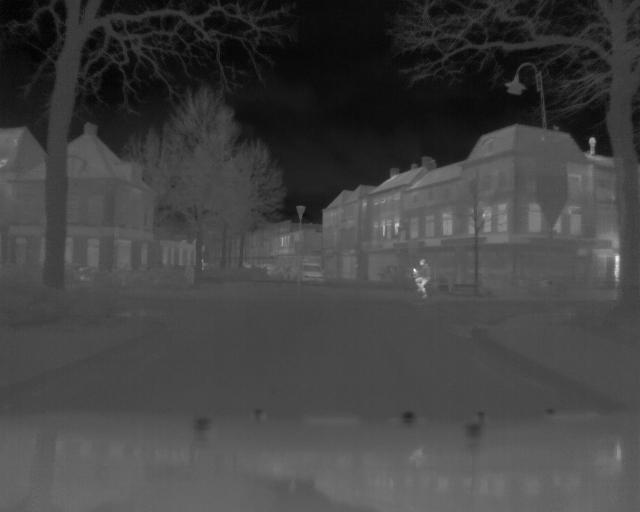car: (291, 260, 329, 286)
person: (408, 253, 430, 301)
